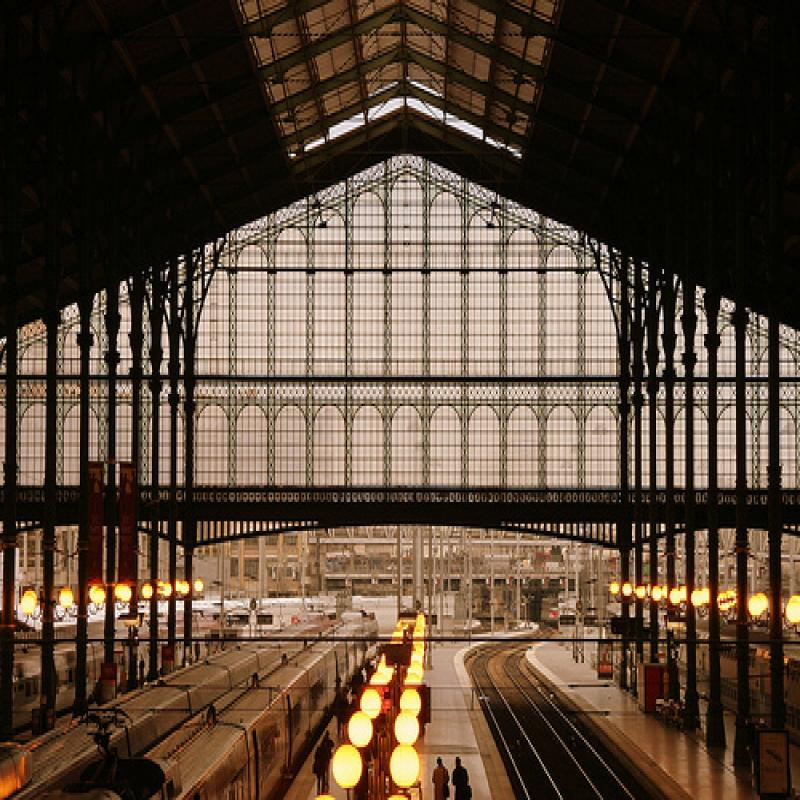train: (1, 621, 329, 796), (103, 609, 385, 799), (11, 611, 235, 739)
